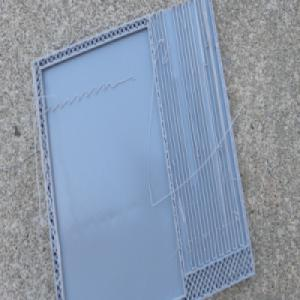PlasticPart: (32, 1, 255, 300)
